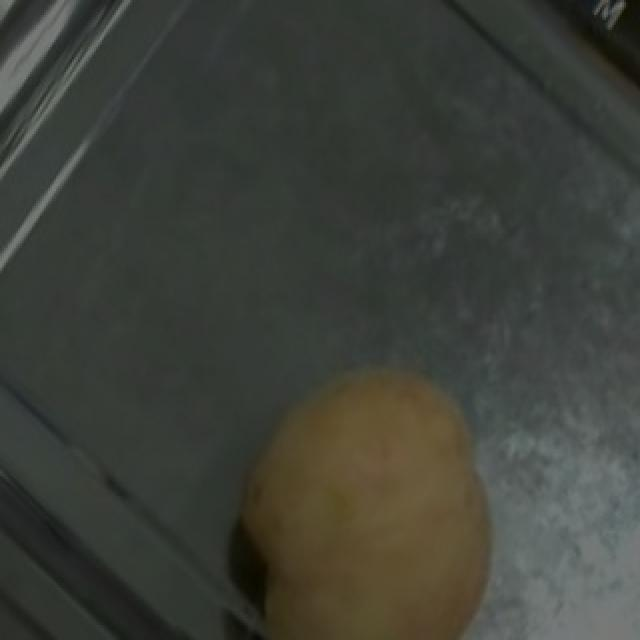Fruit: (192, 332, 522, 640)
